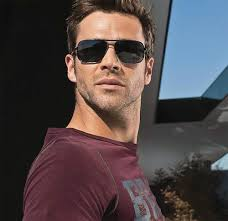glasses: (64, 35, 153, 68)
